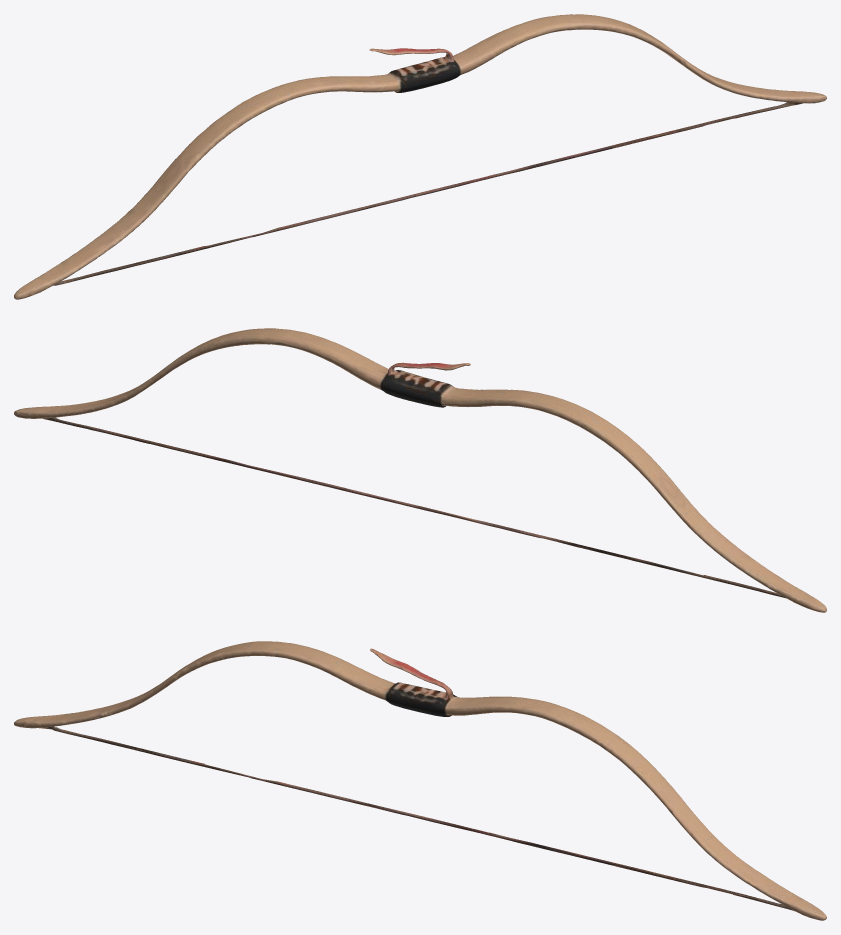
The model's file is bow.glb.
3 renders of one model, top to bottom at view 1: azimuth 30°, elevation 25°; view 2: azimuth 150°, elevation 25°; view 3: azimuth 330°, elevation 25°, orthographic.
Parts seen in each view (by area): view 1: bow; view 2: bow; view 3: bow.
Boxes of the visible parts, x1,y1,x2,y2 form: bow: [14, 14, 826, 299]; bow: [14, 328, 826, 612]; bow: [14, 641, 826, 920].
Size of the model in its own units: 1.4 by 0.2672 by 0.045.
Materials: 1 (1 with a texture image).
